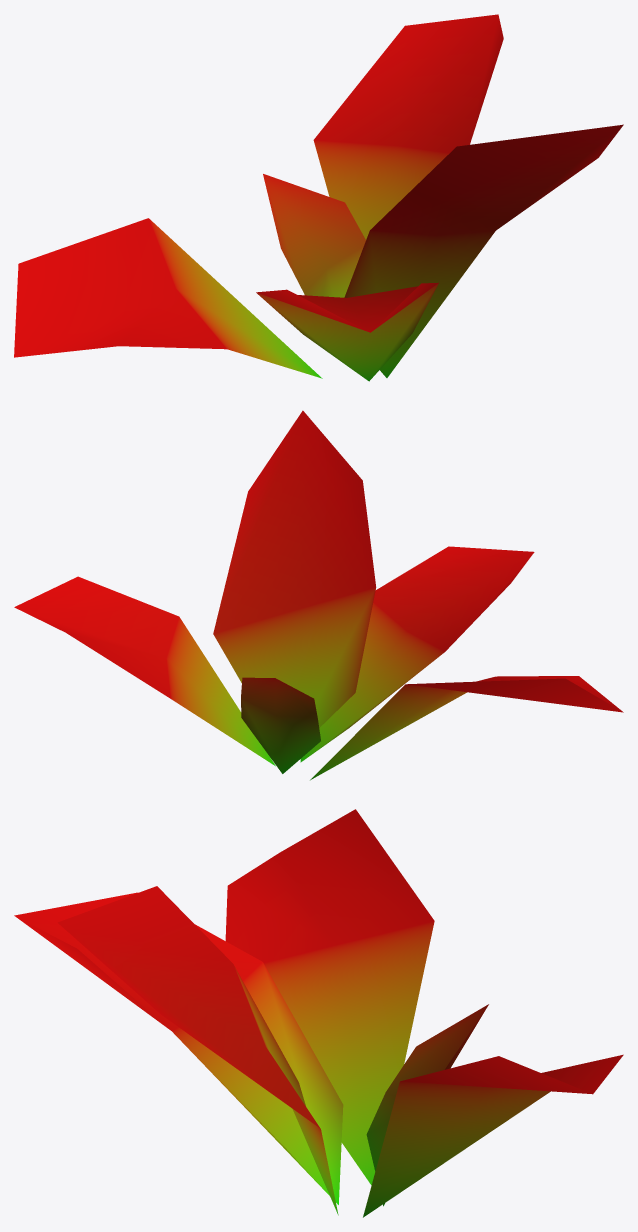
The model's file is Silvery Glade Fern_LOD6_Var6_xf5lebcqx.fbx.
The picture shows the model from 3 angles, top to bottom: view 1: azimuth 30°, elevation 25°; view 2: azimuth 150°, elevation 25°; view 3: azimuth 270°, elevation 25°; orthographic projection. The views are drawn at different scales.
Visible parts, largest first — view 1: _o69o_Var6_LOD6; view 2: _o69o_Var6_LOD6; view 3: _o69o_Var6_LOD6.
Part boxes in pixels (x1,y1,x2,y2): _o69o_Var6_LOD6: [14, 14, 623, 381]; _o69o_Var6_LOD6: [14, 410, 623, 780]; _o69o_Var6_LOD6: [14, 809, 623, 1217].
Bounding box in the file's own units: 72.06 × 35.47 × 55.54.
